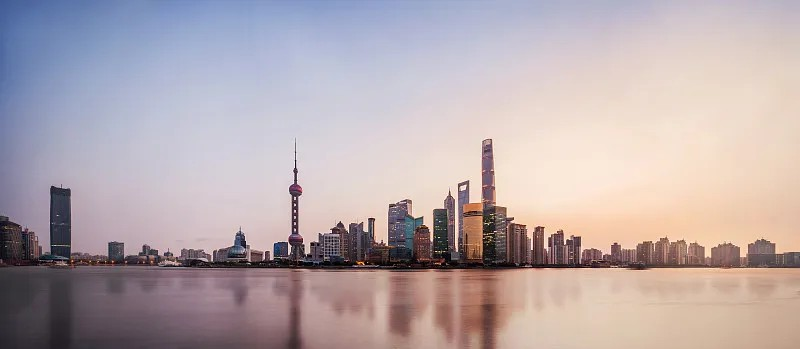Oriental: (288, 136, 304, 258)
